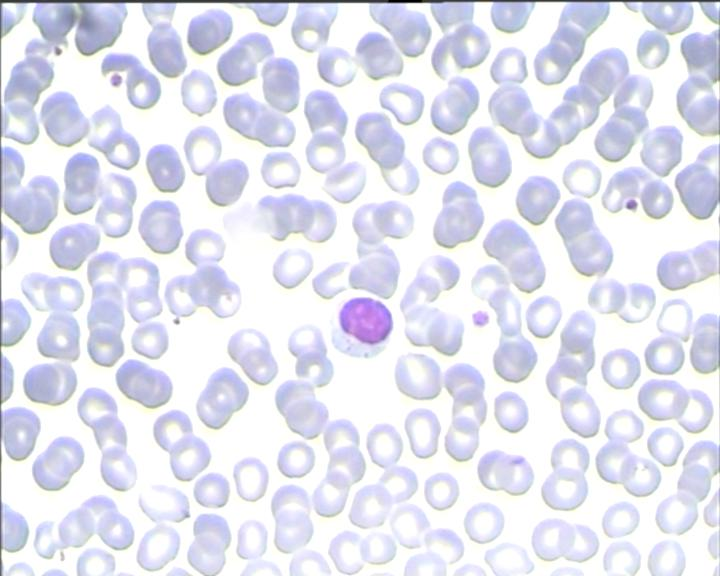lymp: (324, 295, 392, 360)
